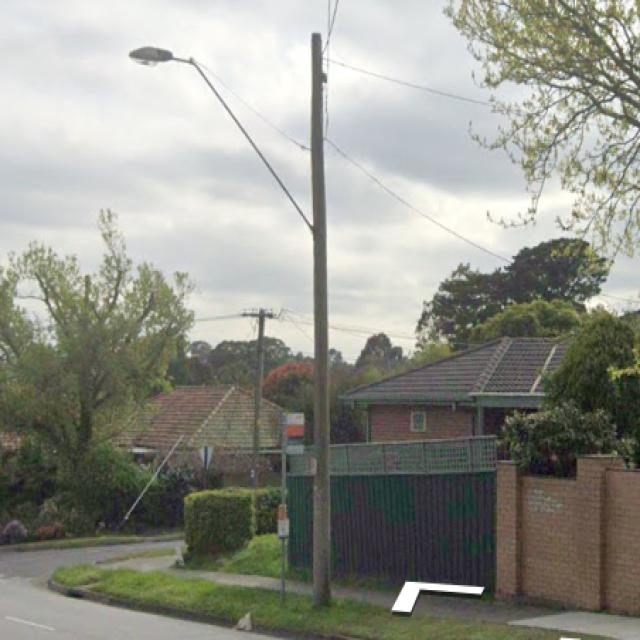crossarm: (241, 310, 275, 320)
streetlight: (128, 44, 314, 233)
timber-pole: (308, 33, 334, 608), (251, 307, 265, 486)
